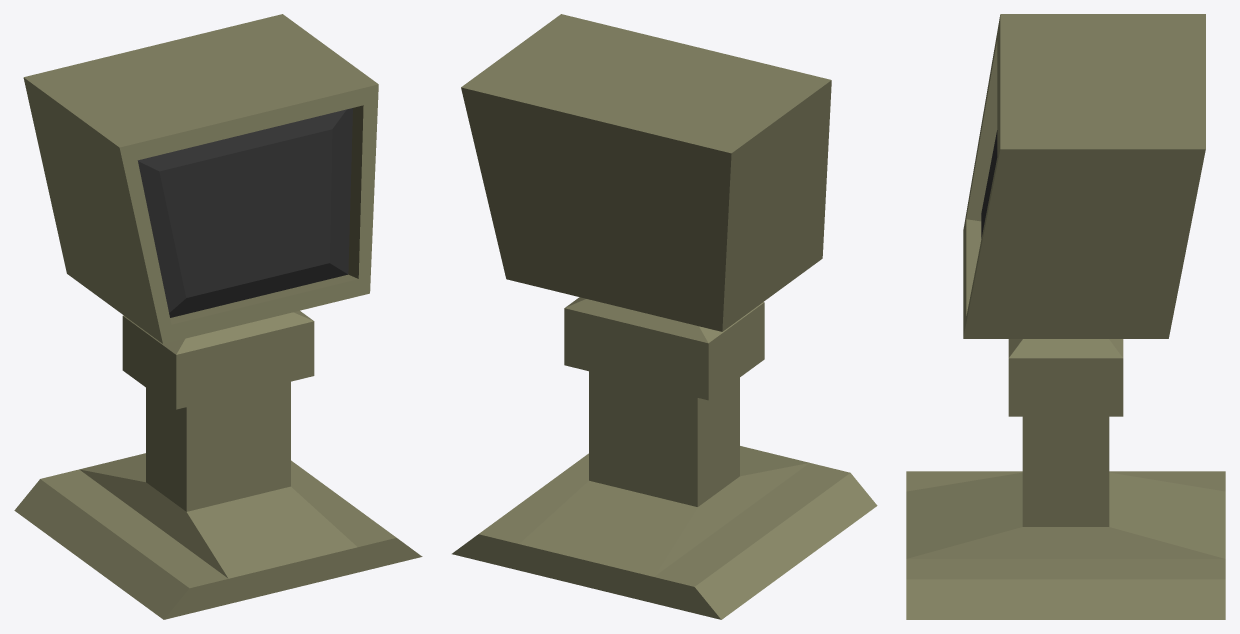
File: Terminal.fbx
3 views of the same model, side by side, from view 1: azimuth 30°, elevation 25°; view 2: azimuth 150°, elevation 25°; view 3: azimuth 270°, elevation 25° (orthographic). The views are drawn at different scales.
Visible parts, largest first — view 1: Terminal; view 2: Terminal; view 3: Terminal.
Boxes of the visible parts, bbox=[...] form: Terminal: bbox=[14, 14, 422, 619]; Terminal: bbox=[452, 14, 877, 619]; Terminal: bbox=[906, 14, 1225, 619].
Bounding box in the file's own units: 89.11 × 145 × 89.25.
